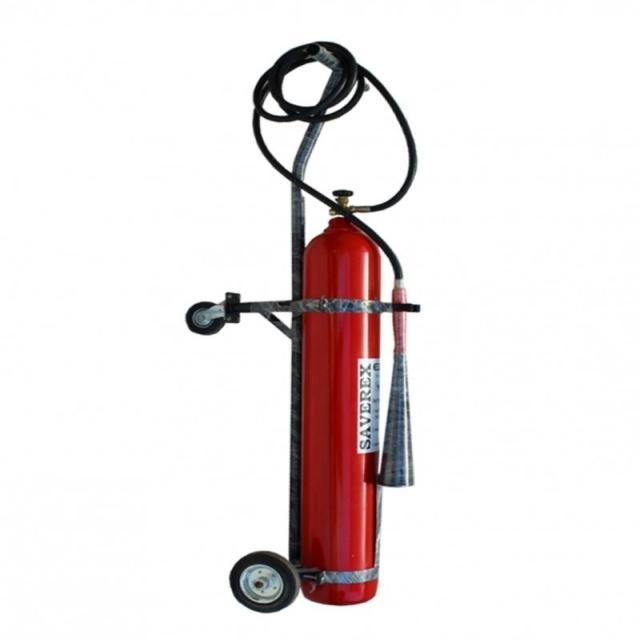fire_extinguisher: (242, 35, 420, 611)
